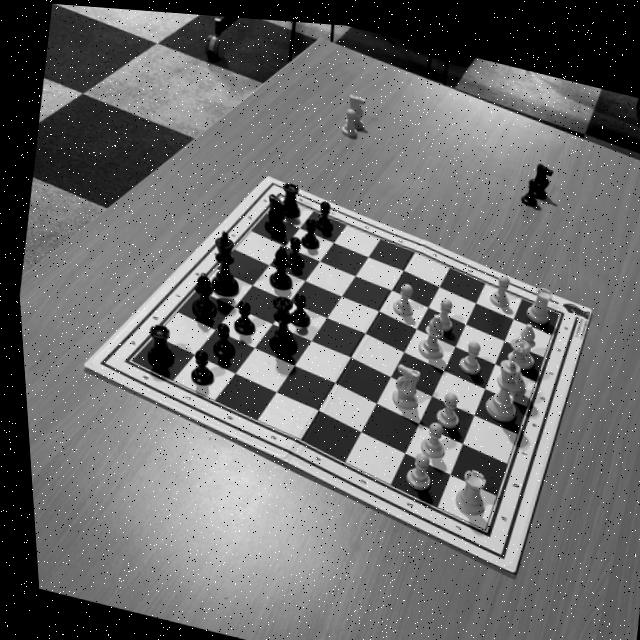chessboard: (123, 191, 555, 528)
